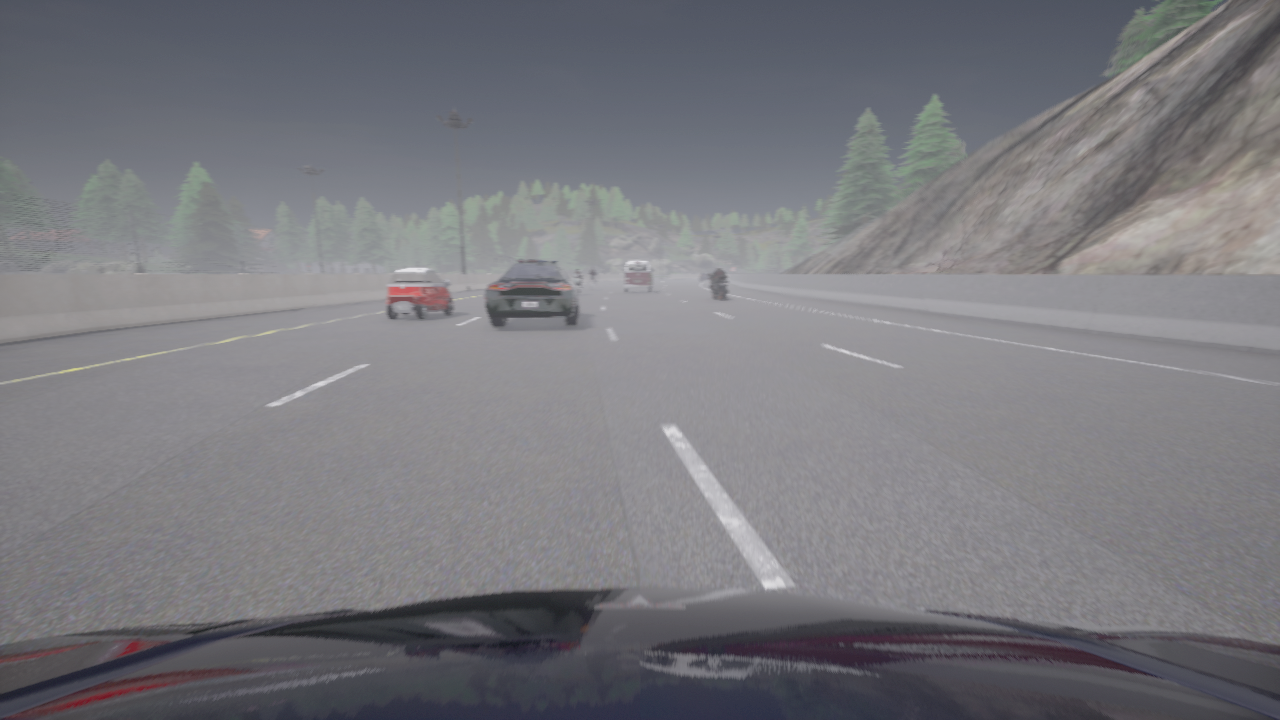cyclist: (0, 588, 1279, 719), (485, 260, 580, 326), (386, 268, 452, 320), (623, 260, 653, 292), (708, 274, 728, 300), (575, 275, 583, 294), (700, 272, 712, 280), (592, 279, 595, 287)
